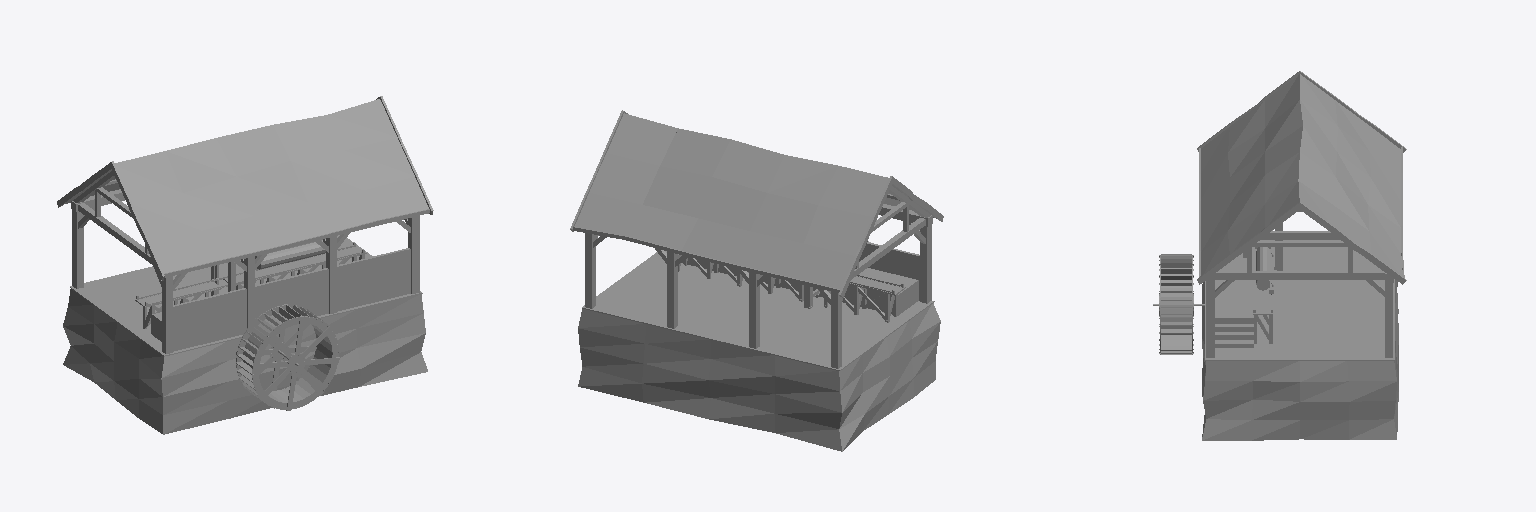
File: medieval_sawmill_1_001.obj
The picture shows the model from 3 angles: view 1: azimuth 30°, elevation 25°; view 2: azimuth 150°, elevation 25°; view 3: azimuth 270°, elevation 25°; orthographic projection.
Parts seen in each view (by area): view 1: Wheel_Cylinder.003; view 2: Wheel_Cylinder.003; view 3: Wheel_Cylinder.003.
Part boxes in pixels (x1,y1,x2,y2): Wheel_Cylinder.003: (57,96,433,434); Wheel_Cylinder.003: (570,110,943,451); Wheel_Cylinder.003: (1153,71,1406,440).
Bounding box in the file's own units: 11.05 × 9.29 × 8.92.